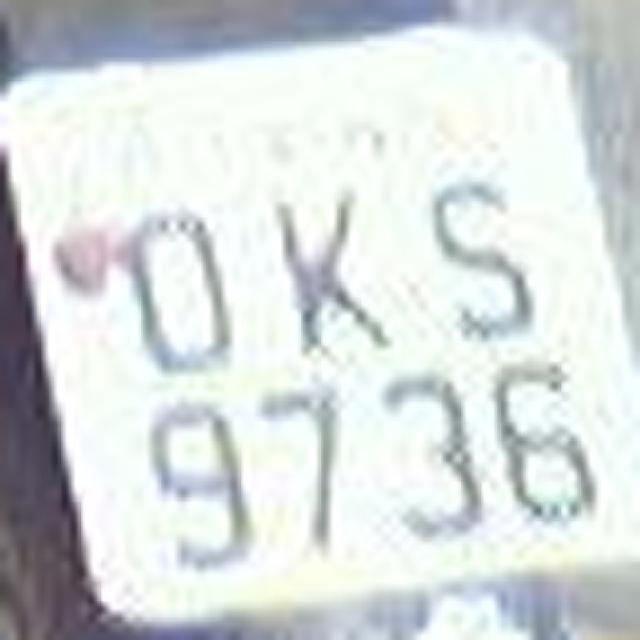3: (349, 340, 496, 572)
6: (468, 336, 604, 549)
7: (244, 368, 364, 568)
8: (476, 335, 609, 560)
9: (124, 376, 268, 584)
O: (100, 188, 255, 388)
S: (404, 168, 548, 352)
X: (256, 168, 392, 380)
